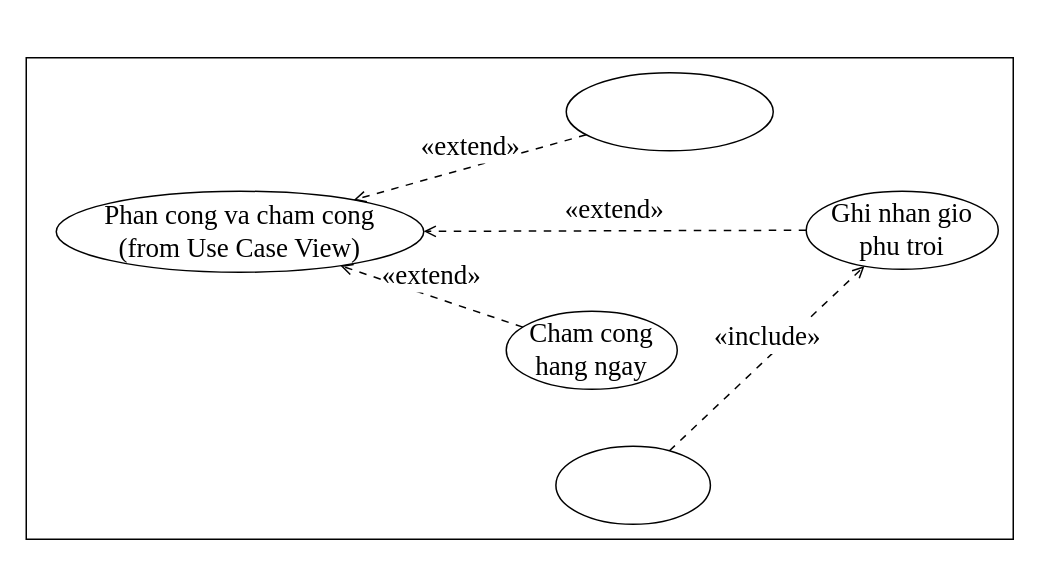
Image size: 1040x566. Some labels were removed from this diagram. Here are the shapes that lost their labels. From the top down, the centre of each, then its label:
the point at 669,111: Lap ke hoach phan cong
the point at 632,484: Lap phieu phu troi
